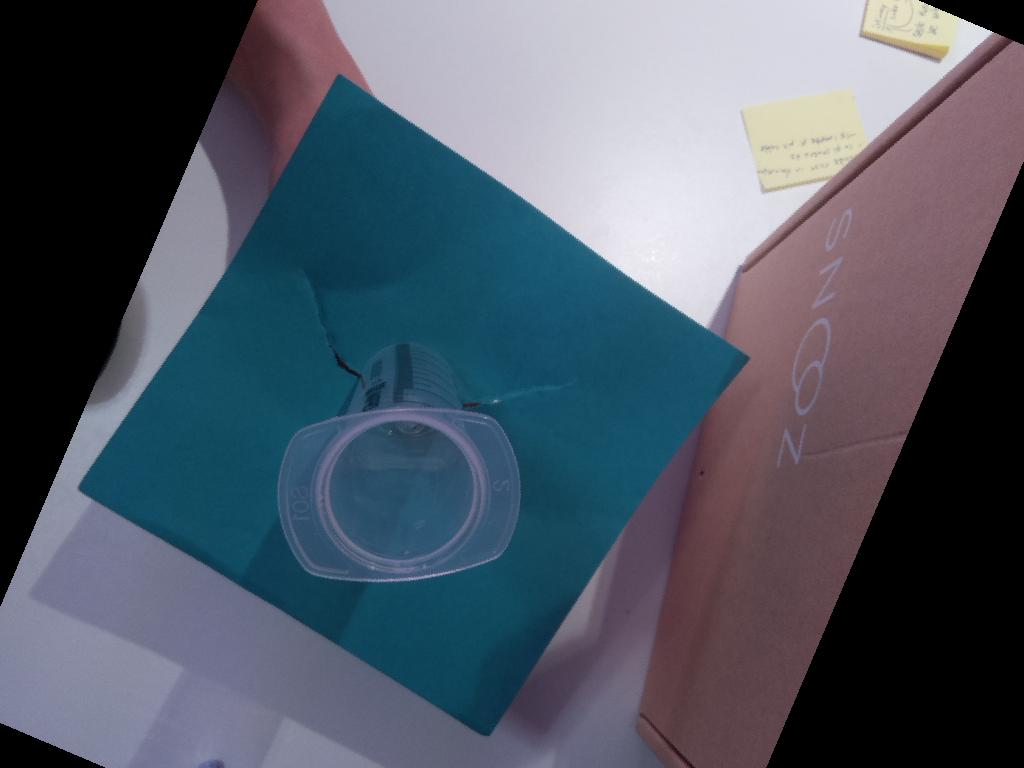clean: (274, 405, 520, 582)
